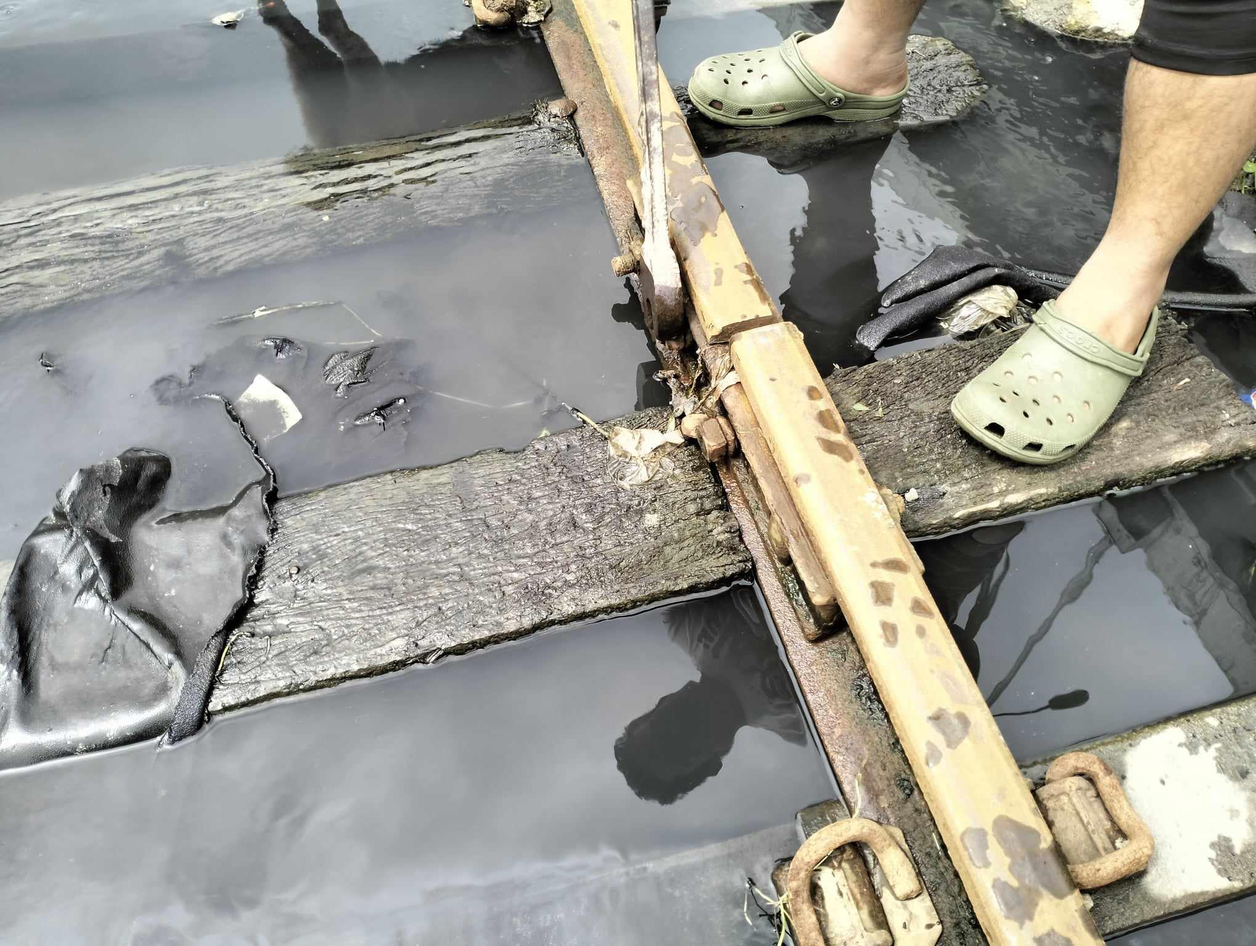railway-gap: (683, 268, 815, 385)
